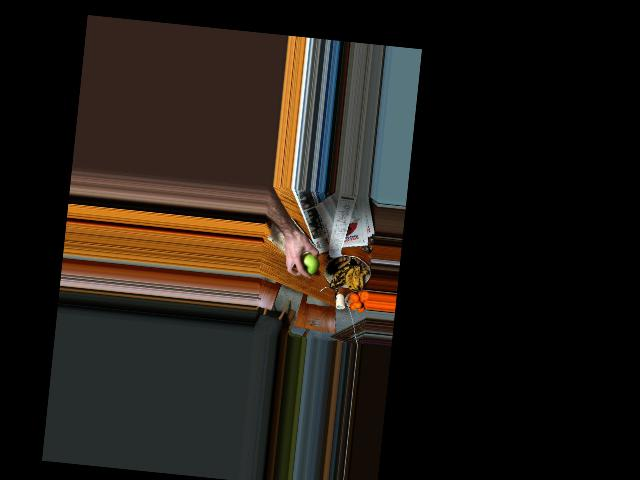apple: (294, 247, 319, 279)
